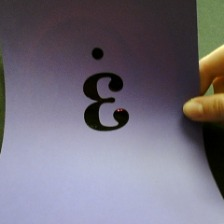violet3: (75, 43, 133, 137)
